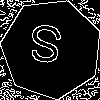S: (26, 23, 65, 73)
